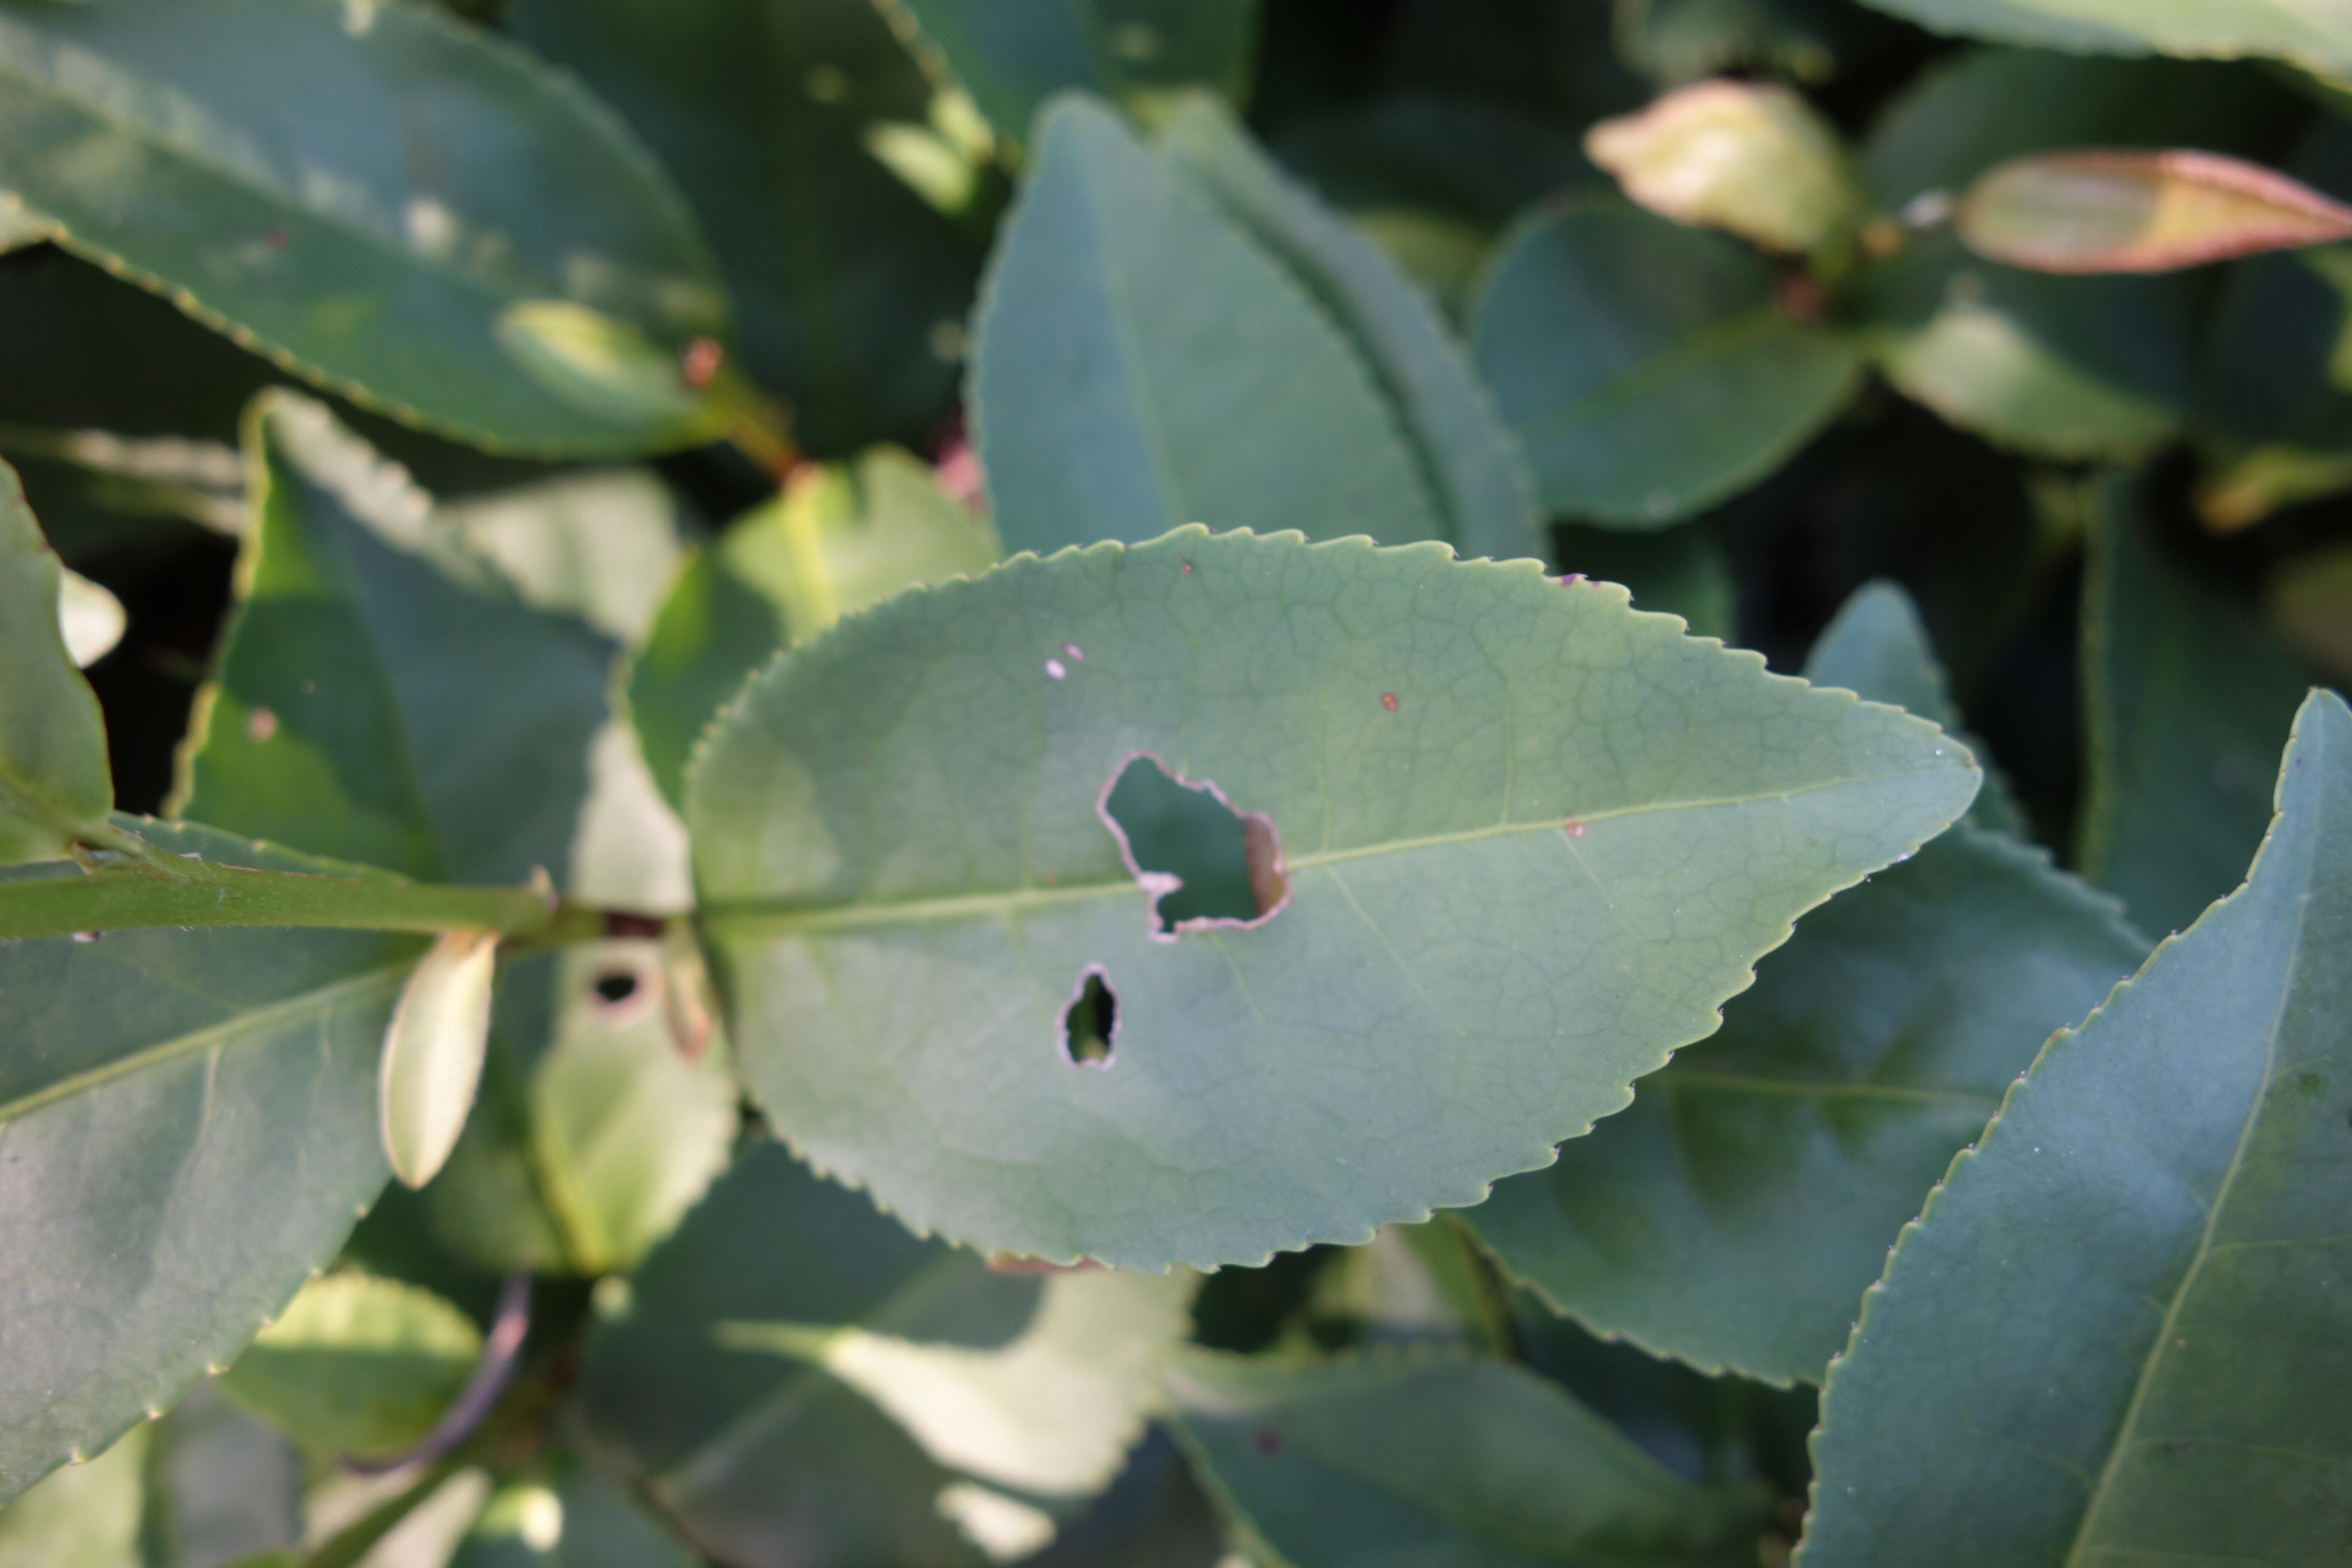chihuo_high: (674, 518, 1984, 1276)
tanju_low: (1962, 149, 2347, 275)
